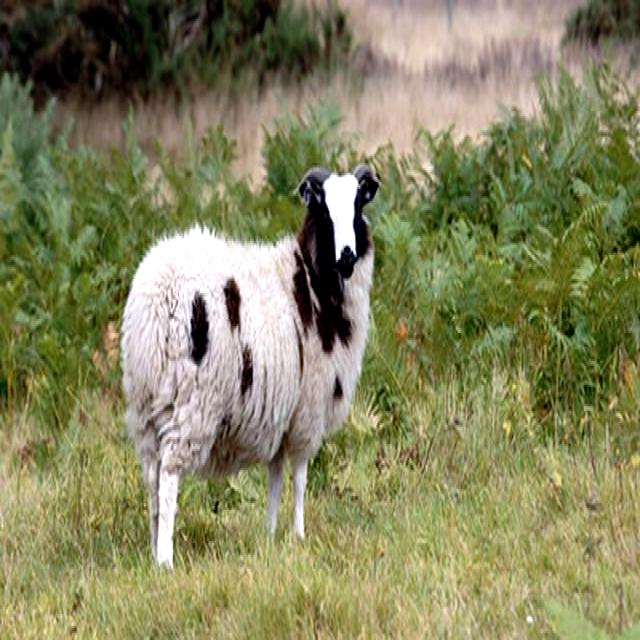sheep: (120, 158, 382, 565)
